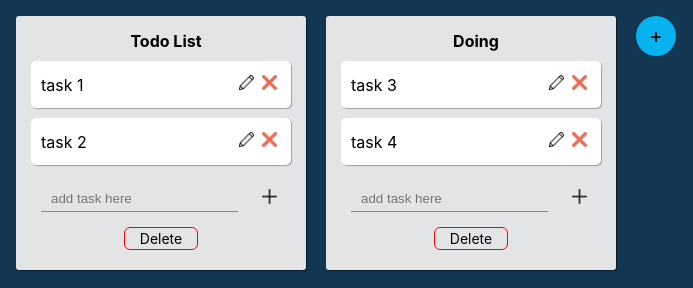
Test: testing <TrelloBoard /> component › should remove cardList from cardListData
Click the button with test id "Doing-delete-button": (471, 238) [434,227,508,250]
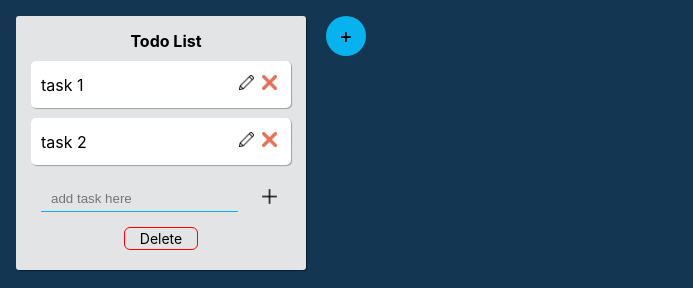
Check: the element with test id "Doing" is gone
